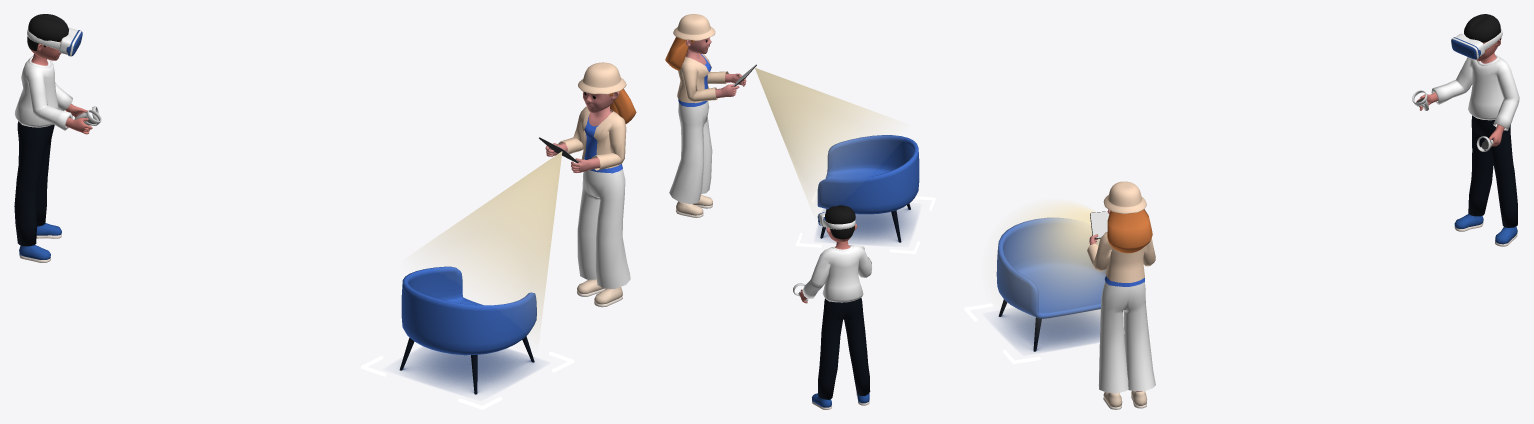
File: LeviShoppeAnim.glb
The picture shows the model from 3 angles, left to right: view 1: azimuth 30°, elevation 25°; view 2: azimuth 150°, elevation 25°; view 3: azimuth 270°, elevation 25°; orthographic projection. The views are drawn at different scales.
Visible parts, largest first — view 1: Ray, Chair, Long Pant 2, CGround, Long Pant 1.002, Crewneck.002, T shirt 3, Hat 1, Hair 3.002, Shoe 1 Sole.003, Body, Shoe 1 (+3 smaller); view 2: Ray, Chair, Long Pant 1.002, Long Pant 2, Crewneck.002, CGround, T shirt 3, Hat 1, Hair 3.002, Body, Shoe 1, Glow (+2 smaller); view 3: Ray, Chair, Long Pant 2, Long Pant 1.002, Crewneck.002, CGround, Hat 1, T shirt 3, Hair 3.002, Shoe 1 Sole.003, Circle.010, Shoe 1.
Part boxes in pixels (box(x1,y1,x2,y2)): Ray: box(414, 151, 562, 336); Chair: box(401, 266, 536, 355); Long Pant 2: box(577, 169, 630, 288); CGround: box(399, 347, 536, 393); Long Pant 1.002: box(14, 121, 54, 246); Crewneck.002: box(14, 56, 72, 130); T shirt 3: box(558, 106, 626, 173); Hat 1: box(578, 62, 636, 123); Hair 3.002: box(27, 14, 68, 50); Shoe 1 Sole.003: box(19, 223, 61, 262); Body: box(545, 106, 612, 172); Shoe 1: box(577, 279, 622, 307); Ray: box(755, 68, 900, 210); Chair: box(817, 135, 919, 214); Long Pant 1.002: box(818, 298, 870, 399); Long Pant 2: box(669, 101, 712, 204); Crewneck.002: box(802, 245, 872, 302); CGround: box(817, 207, 915, 244); T shirt 3: box(677, 54, 728, 106); Hat 1: box(665, 14, 715, 70); Hair 3.002: box(825, 205, 855, 239); Body: box(685, 50, 746, 98); Shoe 1: box(676, 194, 712, 217); Glow: box(796, 189, 935, 253); Ray: box(999, 201, 1106, 324); Chair: box(996, 217, 1106, 318); Long Pant 2: box(1098, 282, 1155, 393); Long Pant 1.002: box(1468, 115, 1517, 227); Crewneck.002: box(1431, 54, 1519, 130); CGround: box(998, 309, 1100, 351); Hat 1: box(1103, 181, 1152, 253); T shirt 3: box(1087, 232, 1155, 286); Hair 3.002: box(1464, 14, 1501, 42); Shoe 1 Sole.003: box(1454, 214, 1517, 246); Circle.010: box(1451, 27, 1502, 59); Shoe 1: box(1103, 391, 1147, 409).
Size of the model in its own units: 3.49 by 1.9 by 4.16.
29 materials, 2 textured.
